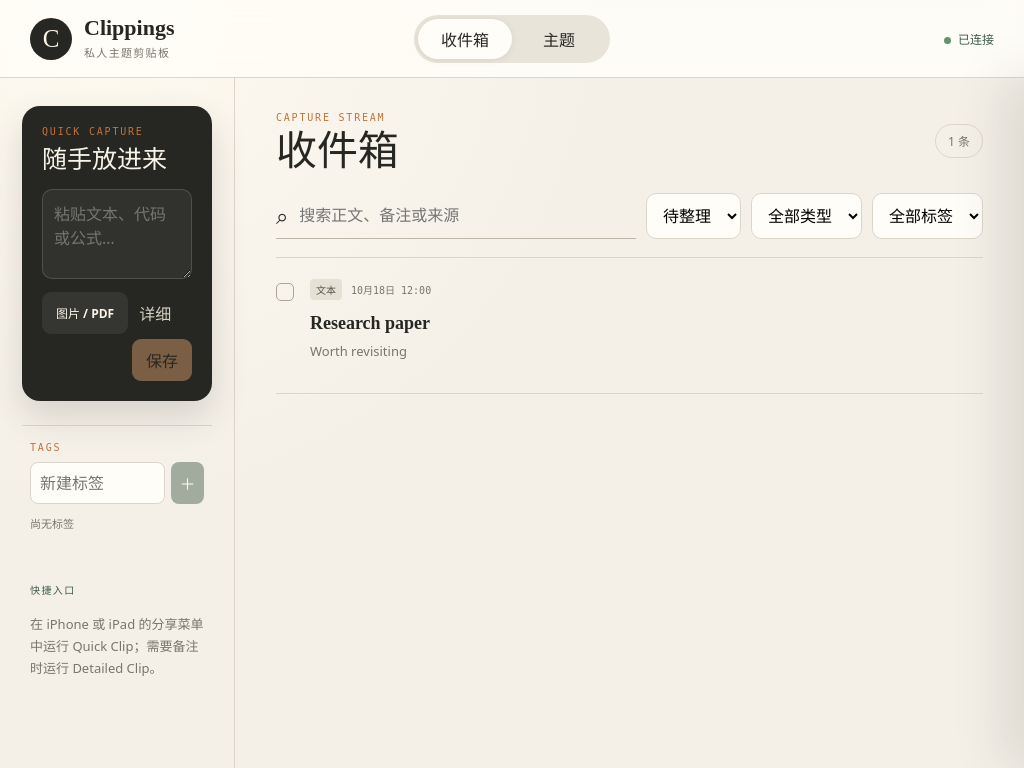
opens immutable text by default and keeps the editable representation available
This screenshot has width=1024, height=768.
Click the heading "Research paper". click: (370, 323)
box: [310, 313, 430, 333]
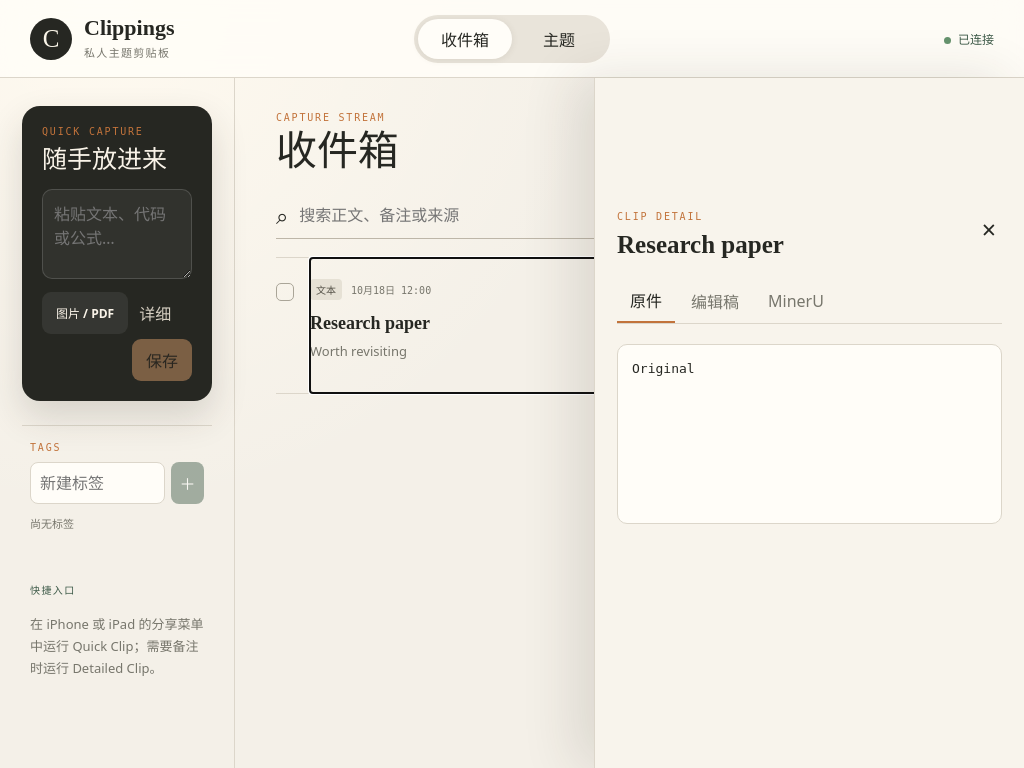
Expected: the text "Original" is shown, [617, 344, 1002, 524]
Click the tab "编辑稿". click: (715, 301)
box: [678, 279, 752, 323]
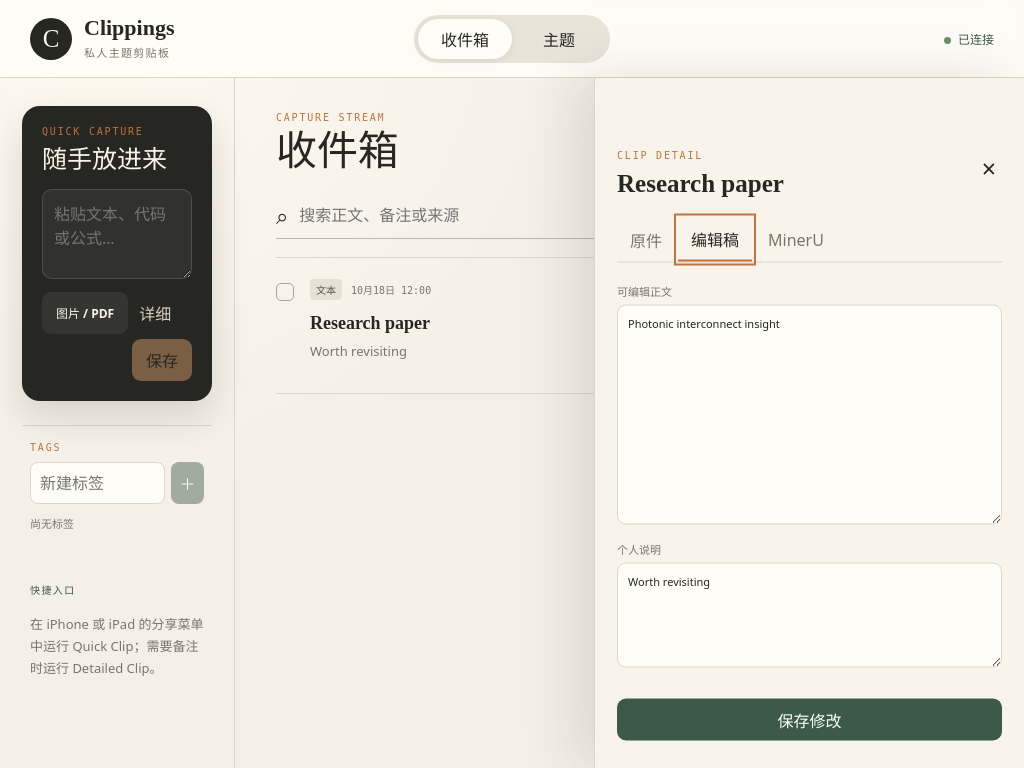
Expected: the text box labelled "可编辑正文" holds "Photonic interconnect insight", [617, 304, 1002, 524]
